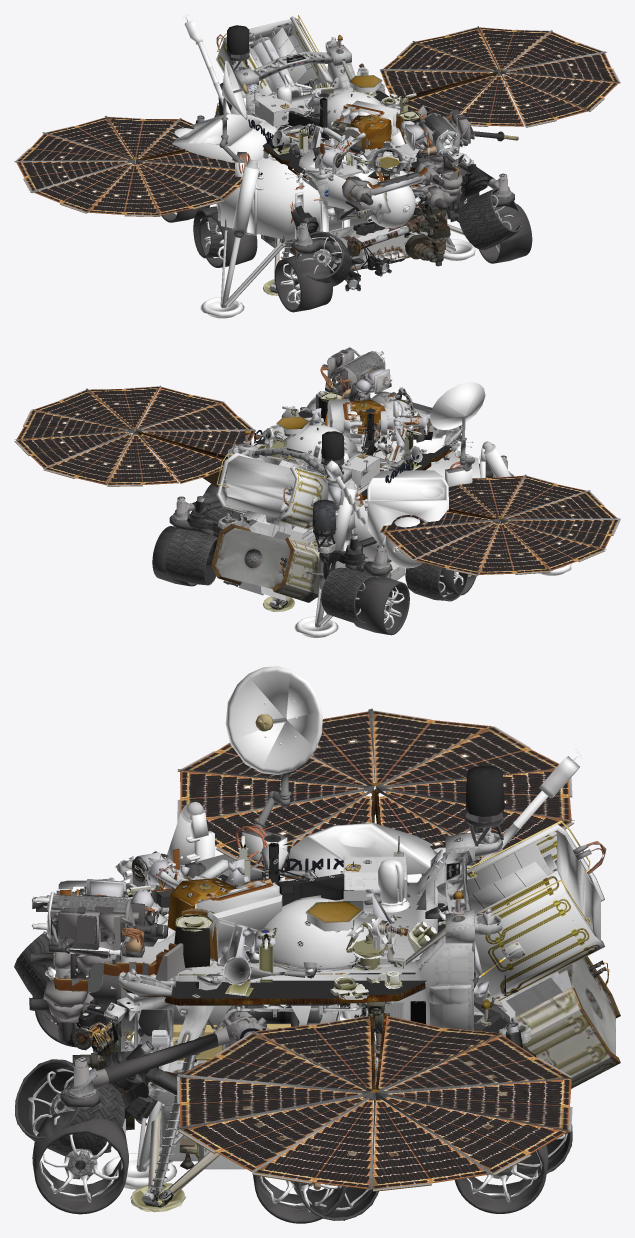
File: nasa.glb
3 renders of one model, top to bottom at view 1: azimuth 30°, elevation 25°; view 2: azimuth 150°, elevation 25°; view 3: azimuth 270°, elevation 25°, orthographic. The views are drawn at different scales.
Visible parts, largest first — view 1: Rover_insight, Rover_perseverance, Rover_viking1, Rover_curiosity; view 2: Rover_insight, Rover_perseverance, Rover_curiosity, Rover_viking1; view 3: Rover_insight, Rover_perseverance, Rover_curiosity, Rover_viking1.
Boxes of the visible parts, x1,y1,x2,y2 form: Rover_insight: (14, 26, 620, 295); Rover_perseverance: (161, 15, 532, 312); Rover_viking1: (172, 15, 518, 318); Rover_curiosity: (193, 83, 521, 291); Rover_insight: (14, 385, 620, 611); Rover_perseverance: (152, 347, 527, 635); Rover_curiosity: (165, 430, 502, 623); Rover_viking1: (166, 382, 571, 637); Rover_insight: (64, 708, 574, 1212); Rover_perseverance: (29, 766, 606, 1223); Rover_curiosity: (14, 869, 620, 1220); Rover_viking1: (45, 666, 582, 1190).
Bounding box in the file's own units: 6.13 × 2.1 × 3.27.
119 materials, 65 textured.
